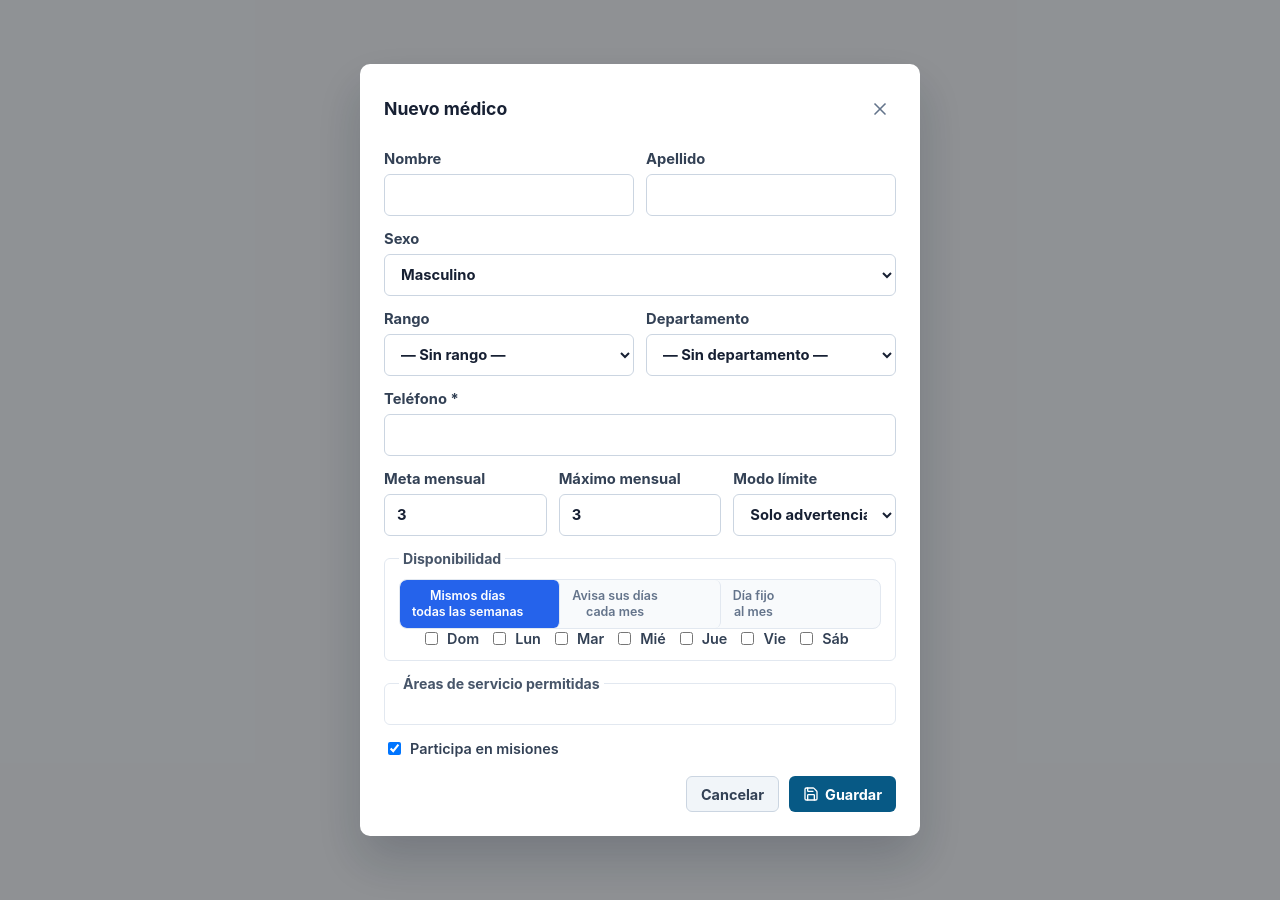
Scenario: DoctorForm availability › monthly mode habilita el modo sin calendario (días se dan desde el listado)
Click the button "Avisa sus días" at coordinates (640, 604), box [560, 580, 721, 628]
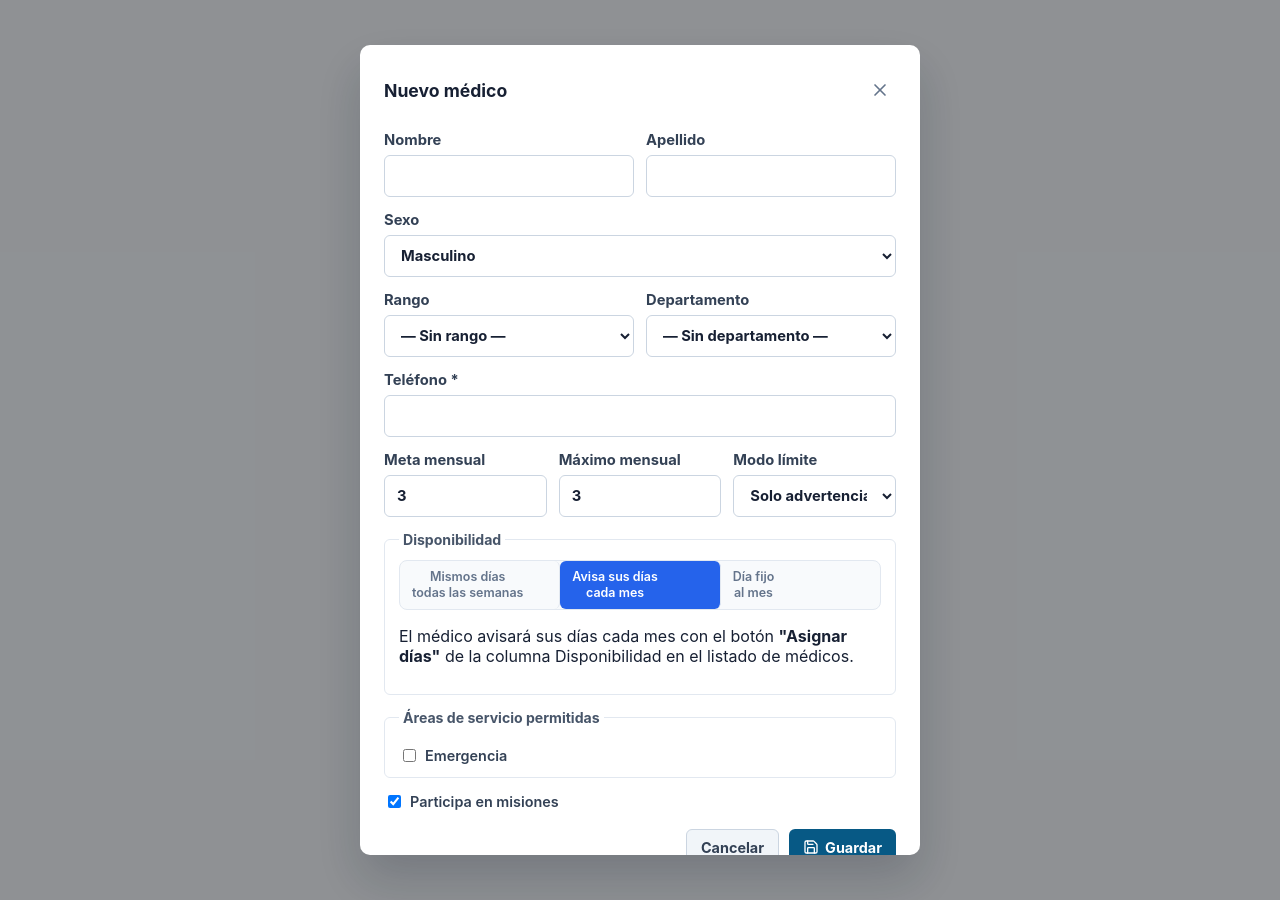
Check: the text "\"Asignar días\"" is shown, box [399, 626, 847, 666]
